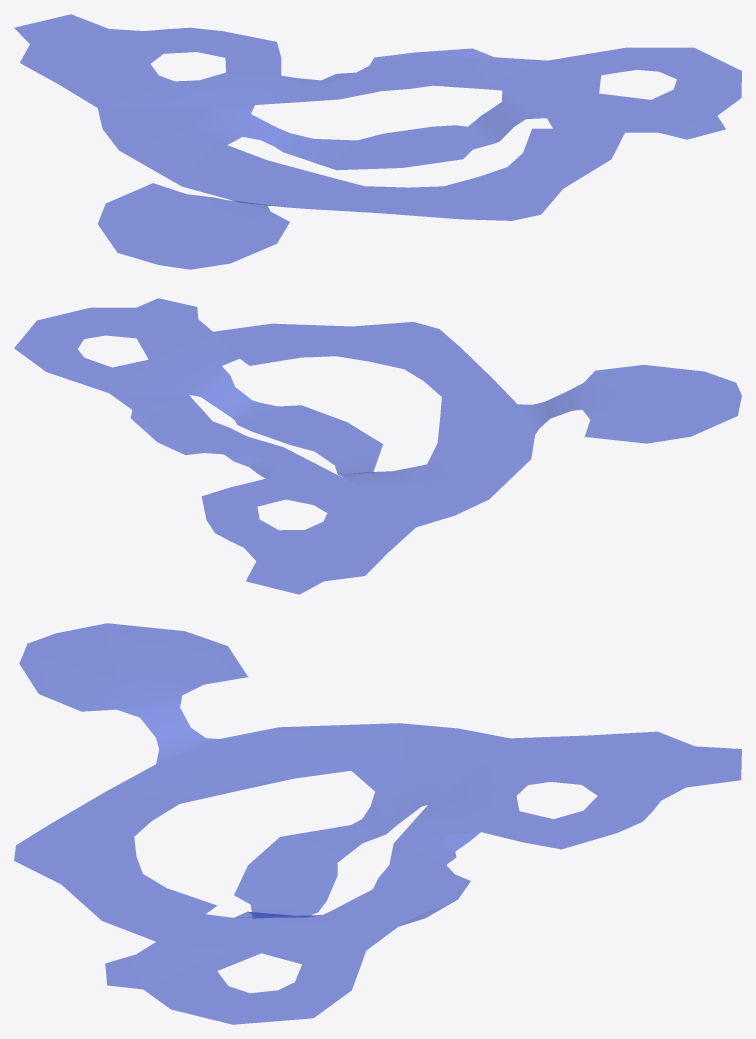
File: rzjd_collier.FBX
3 renders of one model, top to bottom at view 1: azimuth 30°, elevation 25°; view 2: azimuth 150°, elevation 25°; view 3: azimuth 270°, elevation 25°, orthographic. The views are drawn at different scales.
Visible parts, largest first — view 1: rzjd_collier; view 2: rzjd_collier; view 3: rzjd_collier.
Part boxes in pixels (x1=…): rzjd_collier: x1=14, y1=14, x2=741, y2=269; rzjd_collier: x1=14, y1=298, x2=741, y2=594; rzjd_collier: x1=14, y1=623, x2=741, y2=1024.
Bounding box in the file's own units: 10350 × 672 × 8524.
